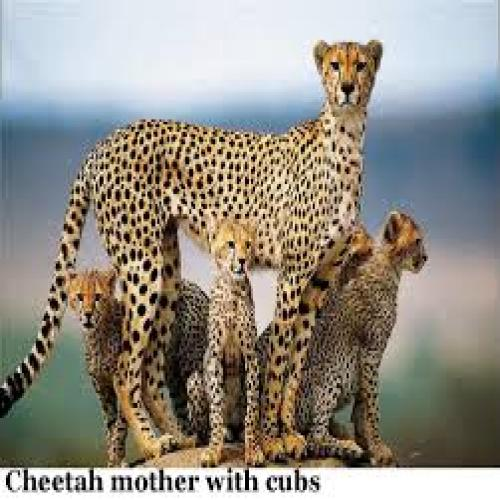cheetah-endangered: (3, 35, 381, 467), (258, 206, 429, 468), (67, 262, 209, 464), (185, 210, 265, 466)
